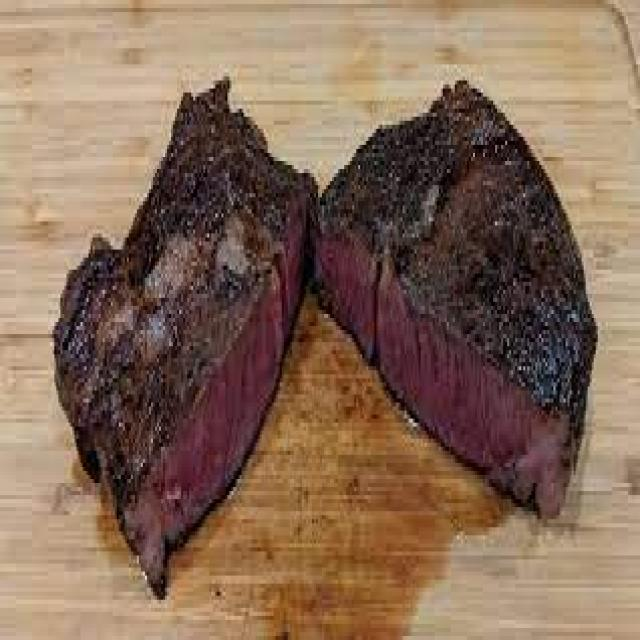Carne: (50, 68, 598, 596), (50, 72, 318, 596), (310, 72, 598, 520)
